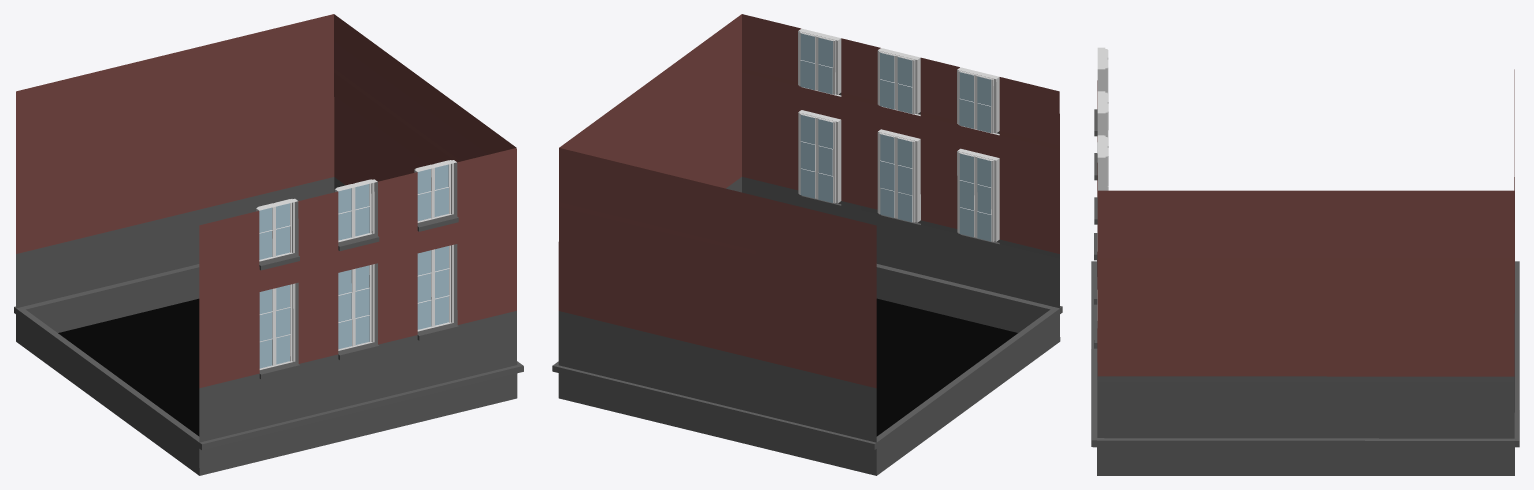
Rendered from House_foundation.fbx.
3 renders of one model, left to right at view 1: azimuth 30°, elevation 25°; view 2: azimuth 150°, elevation 25°; view 3: azimuth 270°, elevation 25°, orthographic. The views are drawn at different scales.
Visible parts, largest first — view 1: Cube; view 2: Cube; view 3: Cube.
Boxes of the visible parts, x1=… form: Cube: x1=14, y1=14, x2=523, y2=475; Cube: x1=552, y1=14, x2=1062, y2=475; Cube: x1=1091, y1=47, x2=1519, y2=475.
Bounding box in the file's own units: 2028 × 1506 × 2050.
